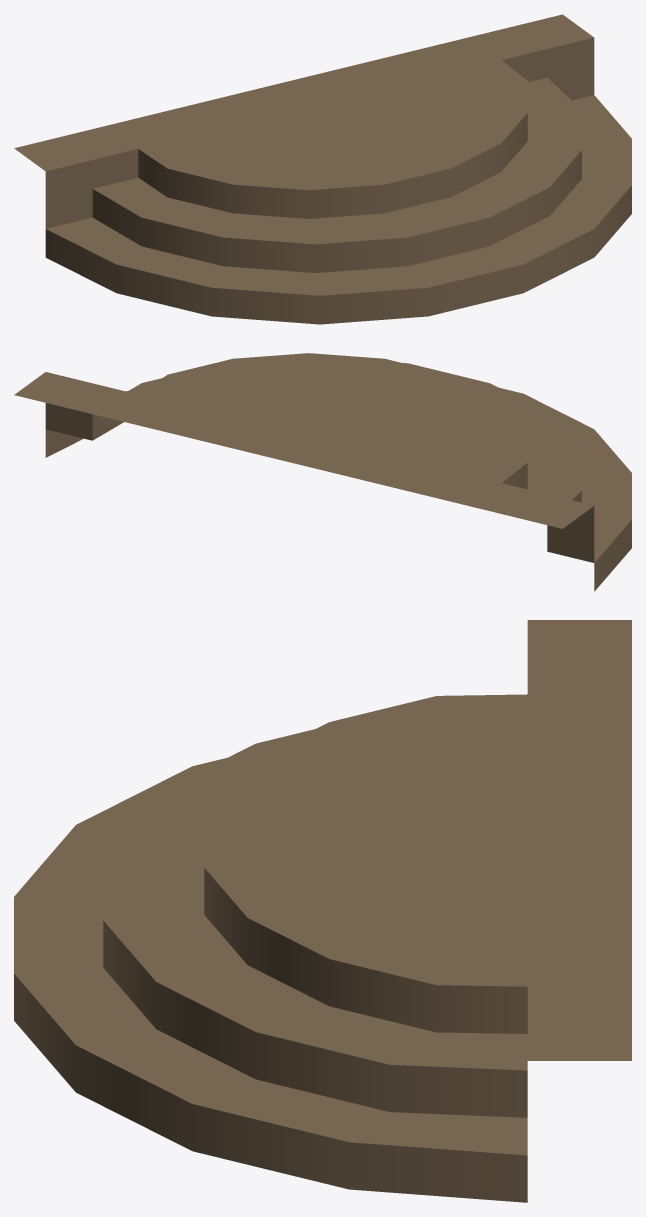
The model's file is 2_doorway_stairs.FBX.
3 views of the same model, one above another, from view 1: azimuth 30°, elevation 25°; view 2: azimuth 150°, elevation 25°; view 3: azimuth 270°, elevation 25° (orthographic). The views are drawn at different scales.
Visible parts, largest first — view 1: 2_doorway_stairs; view 2: 2_doorway_stairs; view 3: 2_doorway_stairs.
Boxes of the visible parts, x1,y1,x2,y2 form: 2_doorway_stairs: (14, 14, 631, 324); 2_doorway_stairs: (14, 353, 631, 591); 2_doorway_stairs: (14, 620, 631, 1202).
Bounding box in the file's own units: 200 × 30 × 118.
